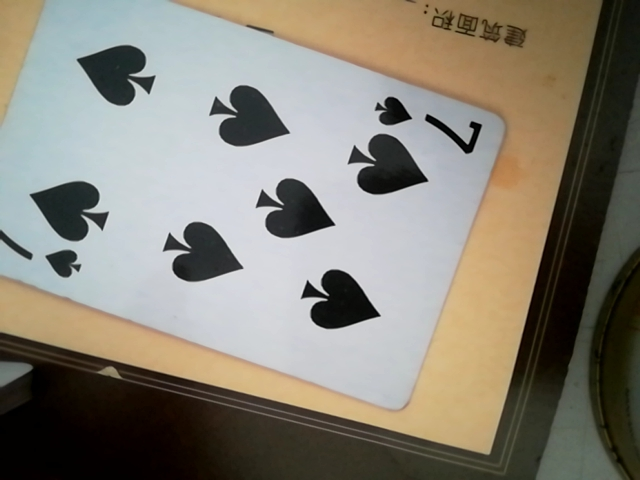ht 7: (0, 5, 519, 422)
